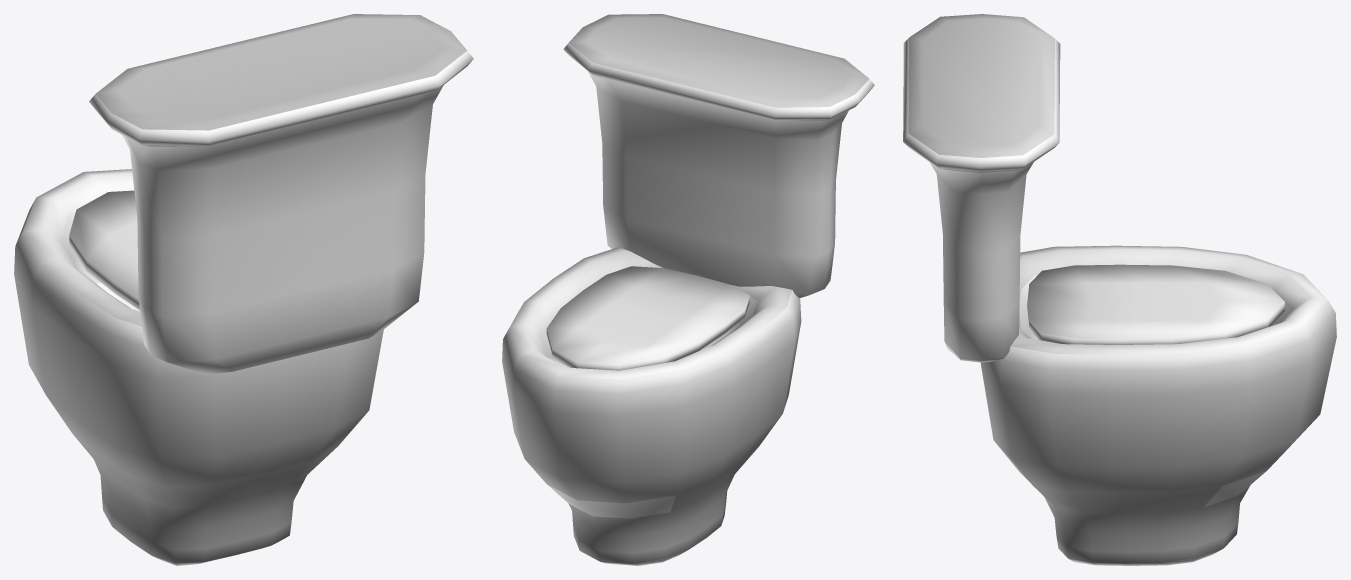
File: Props_Toilet_01.fbx
The picture shows the model from 3 angles, left to right: view 1: azimuth 30°, elevation 25°; view 2: azimuth 150°, elevation 25°; view 3: azimuth 270°, elevation 25°; orthographic projection. The views are drawn at different scales.
Visible parts, largest first — view 1: Props_Toilet_01; view 2: Props_Toilet_01; view 3: Props_Toilet_01.
Part boxes in pixels (x1=…): Props_Toilet_01: x1=14, y1=14, x2=473, y2=565; Props_Toilet_01: x1=502, y1=14, x2=874, y2=565; Props_Toilet_01: x1=903, y1=14, x2=1336, y2=565.
Bounding box in the file's own units: 128 × 185 × 158.
